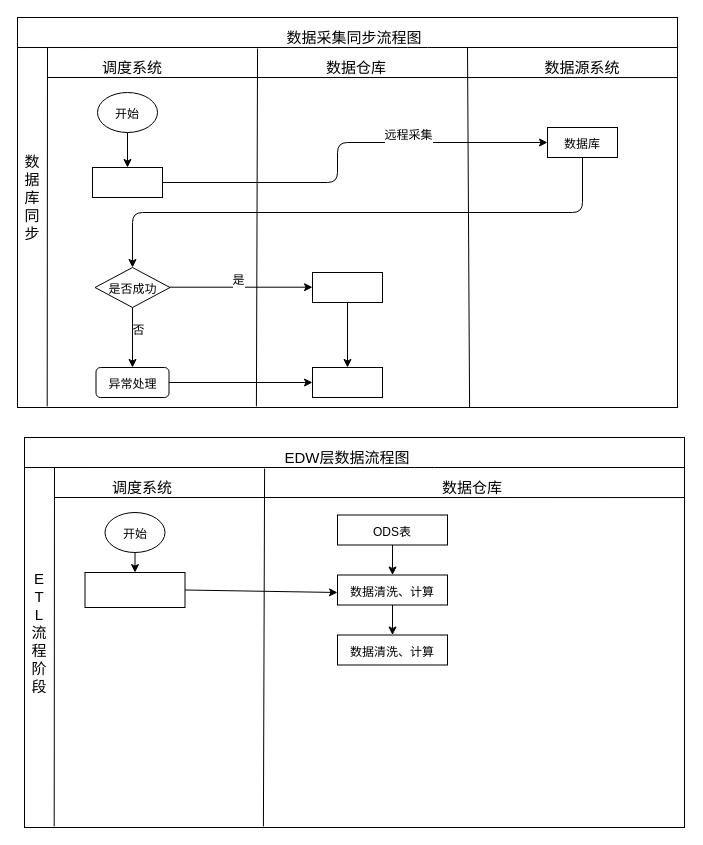
Image size: 703x845. Some labels were removed from this diagram. The shapes that lost their labels are listed below. From the top down, each one's centre as x and y in pixels, then its label:
[127,182]: 定时调用同步脚本
[347,287]: Hive 数仓
[347,382]: 结束
[134,590]: 定时调用ETL脚本
